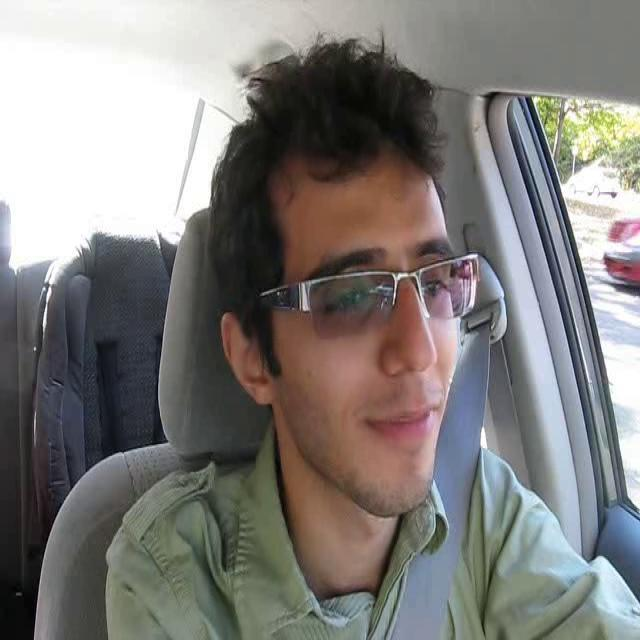close: (367, 403, 437, 448)
